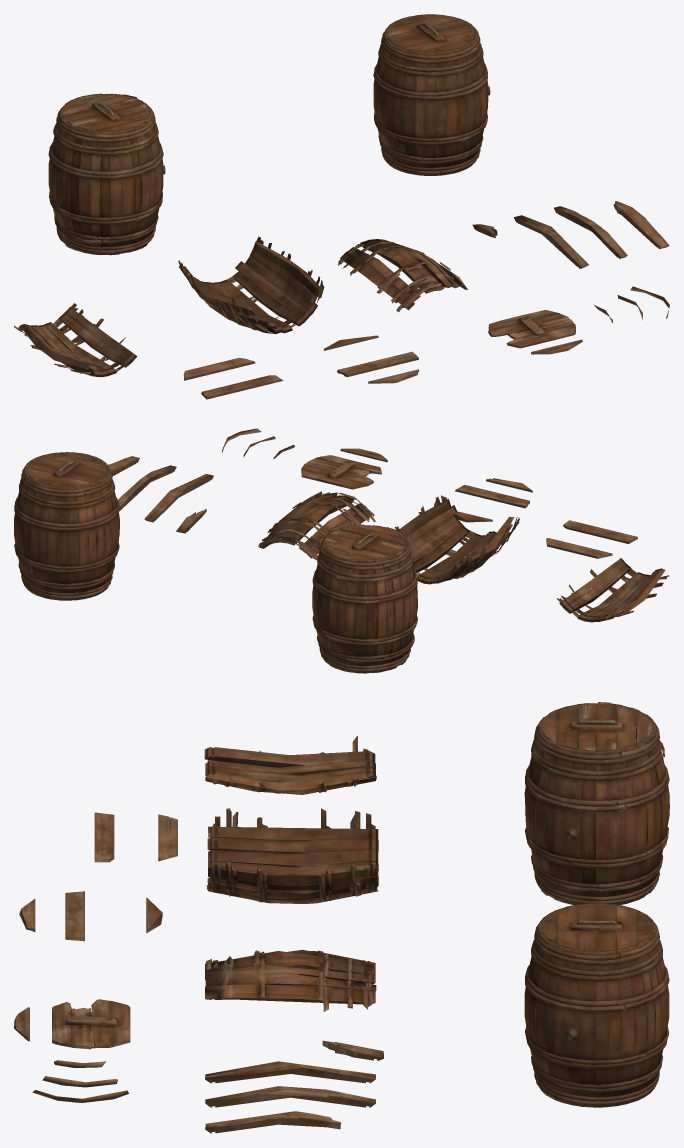
Rendered from wooden_barrels_01.glb.
3 views of the same model, one above another, from view 1: azimuth 30°, elevation 25°; view 2: azimuth 150°, elevation 25°; view 3: azimuth 270°, elevation 25° (orthographic). The views are drawn at different scales.
Parts seen in each view (by area): view 1: wooden_barrels_01_piece01, wooden_barrels_01_barrel01, wooden_barrels_01_barrel02; view 2: wooden_barrels_01_piece01, wooden_barrels_01_barrel02, wooden_barrels_01_barrel01; view 3: wooden_barrels_01_piece01, wooden_barrels_01_barrel01, wooden_barrels_01_barrel02.
Part boxes in pixels (left/top/right/bottom): wooden_barrels_01_piece01: left=14, top=201, right=669, bottom=399; wooden_barrels_01_barrel01: left=373, top=14, right=490, bottom=175; wooden_barrels_01_barrel02: left=48, top=93, right=165, bottom=255; wooden_barrels_01_piece01: left=108, top=428, right=669, bottom=622; wooden_barrels_01_barrel02: left=312, top=524, right=418, bottom=673; wooden_barrels_01_barrel01: left=14, top=452, right=119, bottom=600; wooden_barrels_01_piece01: left=14, top=736, right=383, bottom=1133; wooden_barrels_01_barrel01: left=524, top=903, right=669, bottom=1107; wooden_barrels_01_barrel02: left=524, top=702, right=669, bottom=904.
Size of the model in its own units: 4.44 by 0.9529 by 3.34.
Materials: 3 (3 with a texture image).
